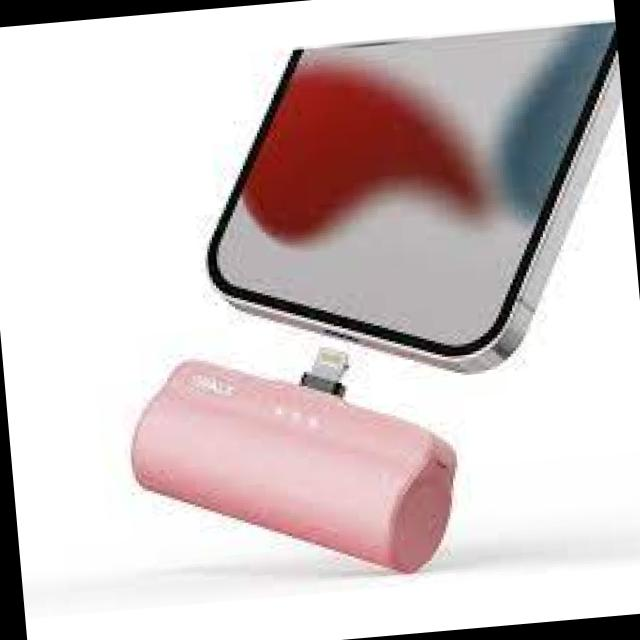portable-charger: (118, 331, 470, 600)
